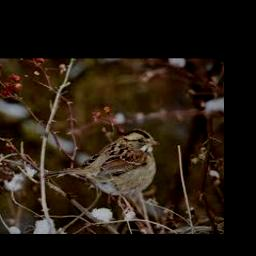Sparrow: (45, 129, 161, 205)
